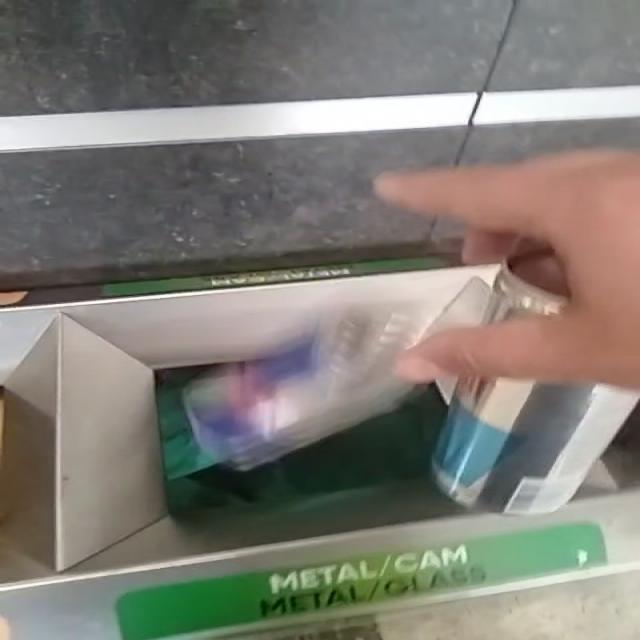bin: (3, 266, 639, 640)
metal: (181, 308, 420, 471)
